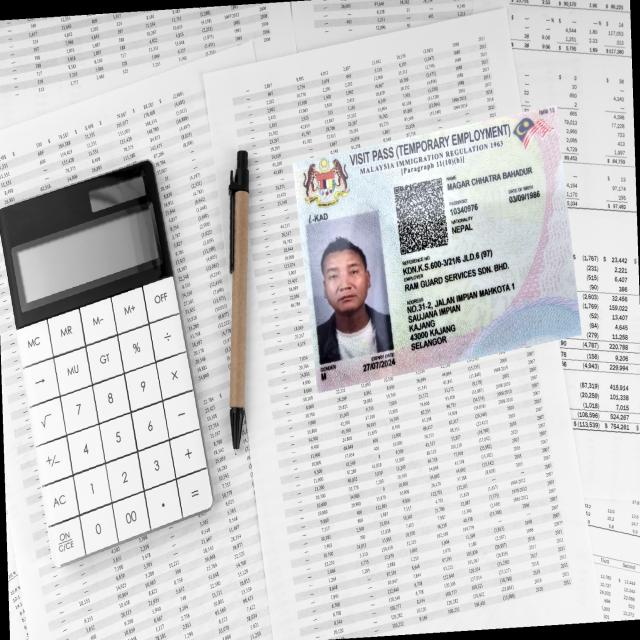ikad-temp: (291, 99, 582, 394)
